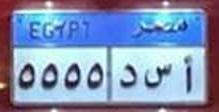5: (39, 57, 59, 91), (60, 61, 81, 89), (17, 60, 36, 90), (87, 61, 104, 90)
alif: (181, 53, 194, 94)
daal: (119, 60, 138, 92)
seen: (143, 59, 172, 92)
